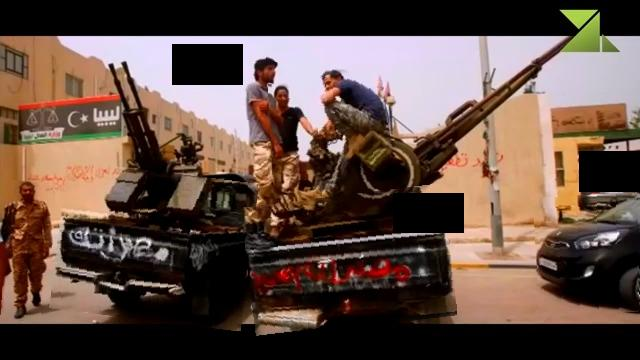MIL_HMMWV: (53, 166, 254, 326), (244, 190, 454, 334), (292, 65, 395, 209), (534, 193, 640, 314), (245, 56, 291, 240), (270, 81, 322, 228), (1, 181, 53, 321)
